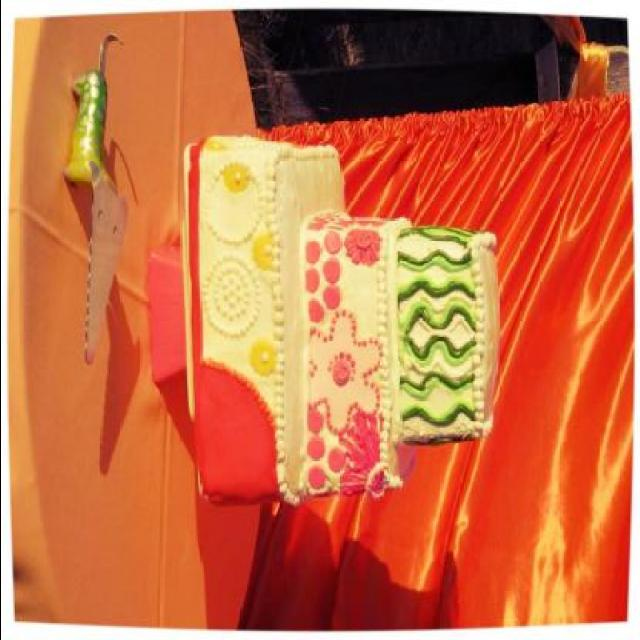Cake: (183, 135, 499, 508)
